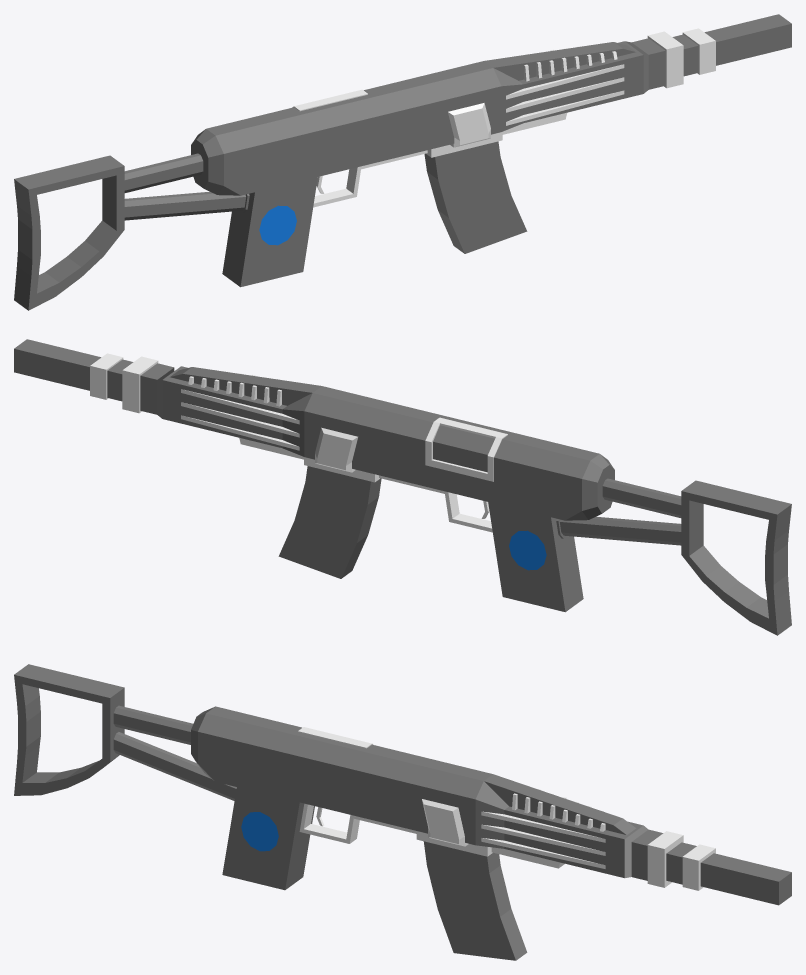
Rendered from Test_Rifle.fbx.
The picture shows the model from 3 angles, top to bottom: view 1: azimuth 30°, elevation 25°; view 2: azimuth 150°, elevation 25°; view 3: azimuth 330°, elevation 25°; orthographic projection.
Visible parts, largest first — view 1: Pistol; view 2: Pistol, PistolReload; view 3: Pistol.
Boxes of the visible parts, x1=… form: Pistol: x1=14, y1=14, x2=791, y2=310; Pistol: x1=14, y1=339, x2=791, y2=635; PistolReload: x1=433, y1=425, x2=494, y2=472; Pistol: x1=14, y1=664, x2=791, y2=960.
Bounding box in the file's own units: 243 × 54.55 × 16.34.
